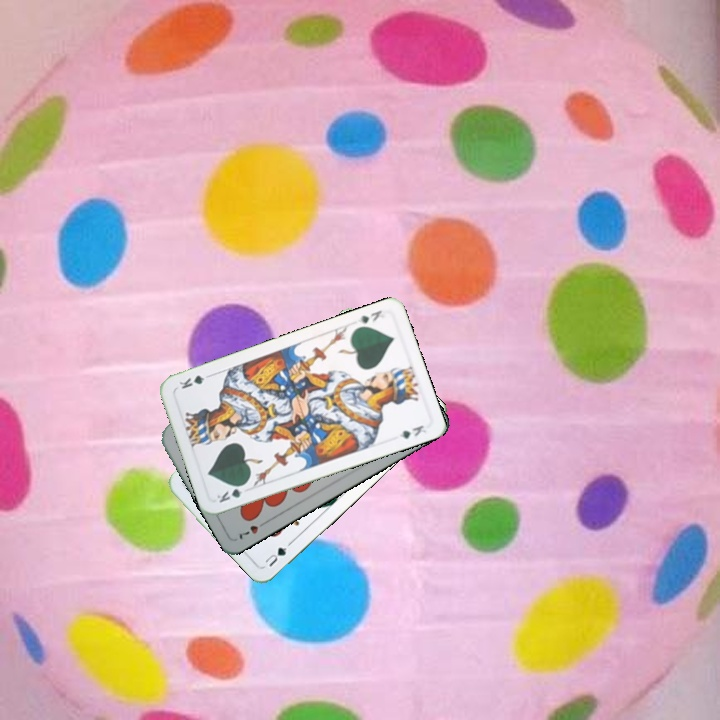GK: (213, 479, 249, 505), (354, 306, 385, 326)
GU: (261, 538, 294, 569)
H7: (233, 516, 271, 542)
